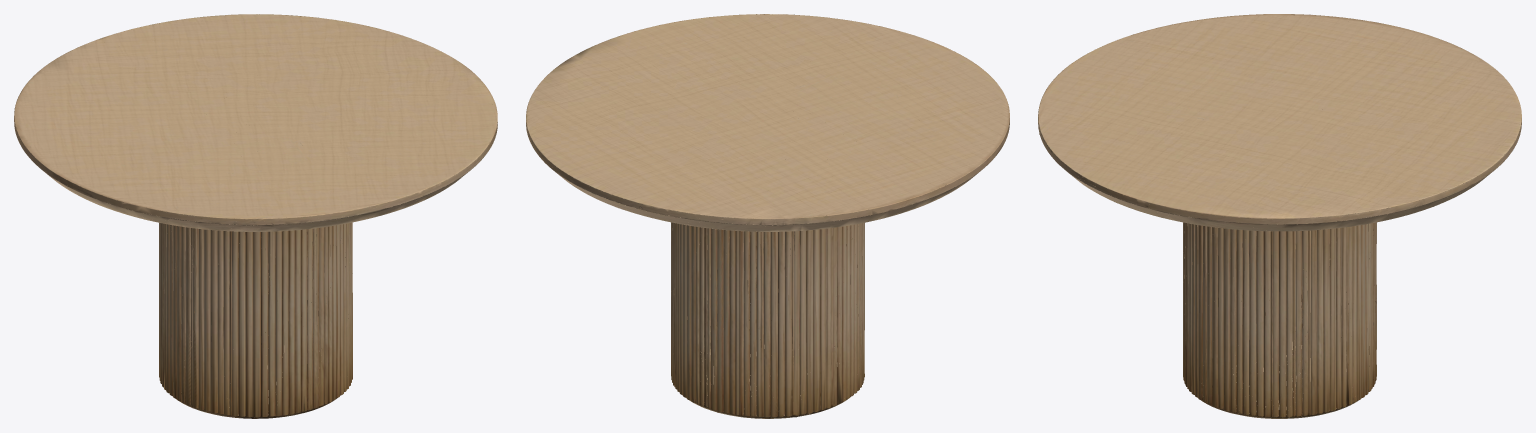
Rendered from alt_table_round.glb.
The picture shows the model from 3 angles, left to right: view 1: azimuth 30°, elevation 25°; view 2: azimuth 150°, elevation 25°; view 3: azimuth 270°, elevation 25°; orthographic projection.
Visible parts, largest first — view 1: node_0; view 2: node_0; view 3: node_0.
Boxes of the visible parts, x1=… form: node_0: x1=14, y1=14, x2=497, y2=418; node_0: x1=526, y1=14, x2=1009, y2=418; node_0: x1=1038, y1=14, x2=1521, y2=418.
Size of the model in its own units: 1.02 by 0.6161 by 1.02.
1 material, 1 textured.
